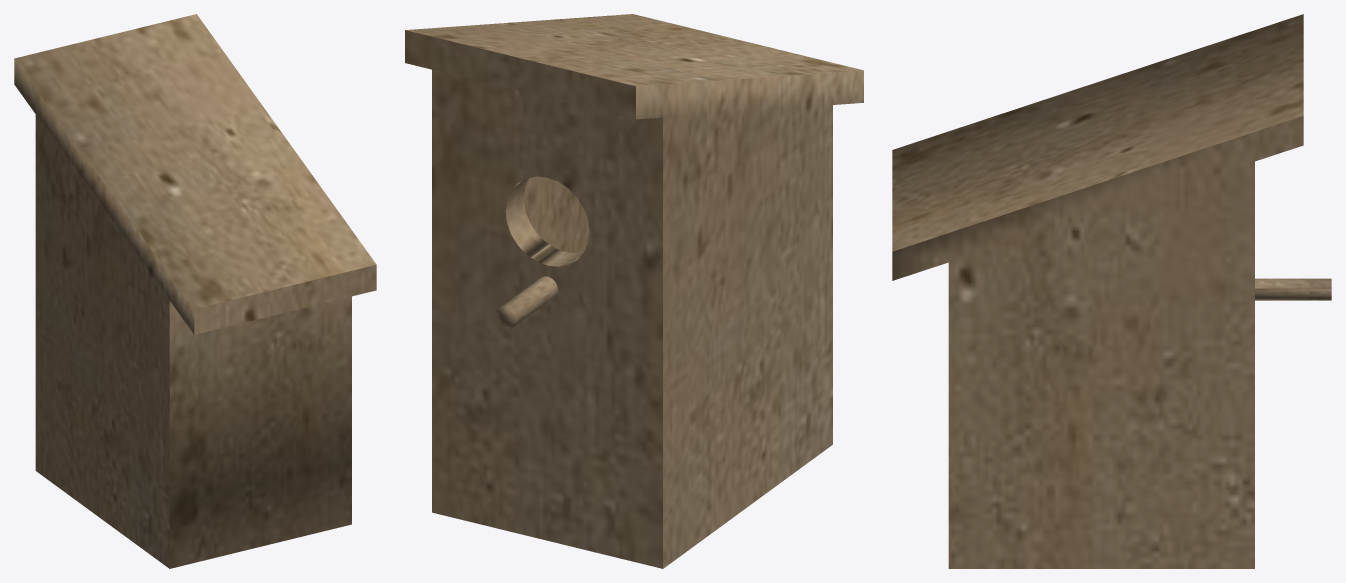
3 renders of one model, left to right at view 1: azimuth 30°, elevation 25°; view 2: azimuth 150°, elevation 25°; view 3: azimuth 270°, elevation 25°, orthographic. The views are drawn at different scales.
Parts seen in each view (by area): view 1: mesh1_mesh1-geometry; view 2: mesh1_mesh1-geometry, mesh2_mesh2-geometry; view 3: mesh1_mesh1-geometry, mesh2_mesh2-geometry.
Boxes of the visible parts, x1,y1,x2,y2 form: mesh1_mesh1-geometry: (14, 14, 376, 568); mesh1_mesh1-geometry: (405, 14, 863, 568); mesh2_mesh2-geometry: (494, 276, 557, 329); mesh1_mesh1-geometry: (892, 14, 1303, 568); mesh2_mesh2-geometry: (1255, 278, 1331, 300).
Bounding box in the file's own units: 0.3401 × 0.7067 × 0.6204.
